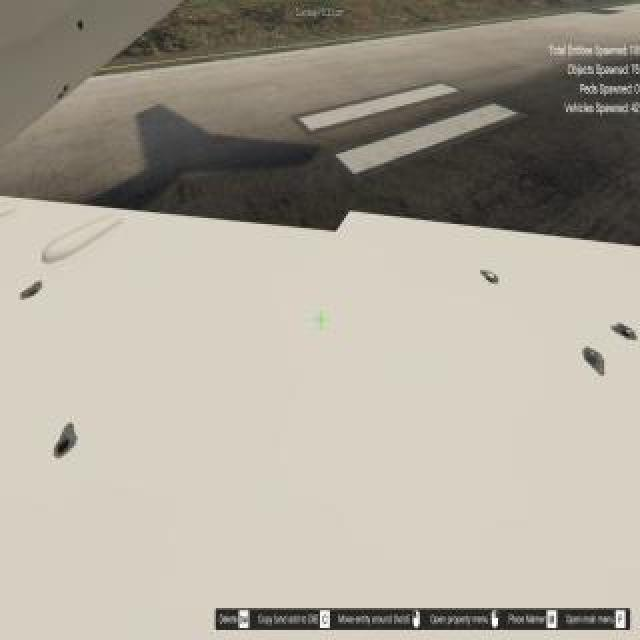crack: (579, 342, 609, 378), (56, 420, 78, 460), (611, 318, 637, 344), (19, 273, 43, 301), (481, 266, 501, 288), (77, 19, 87, 33), (59, 85, 69, 99)
